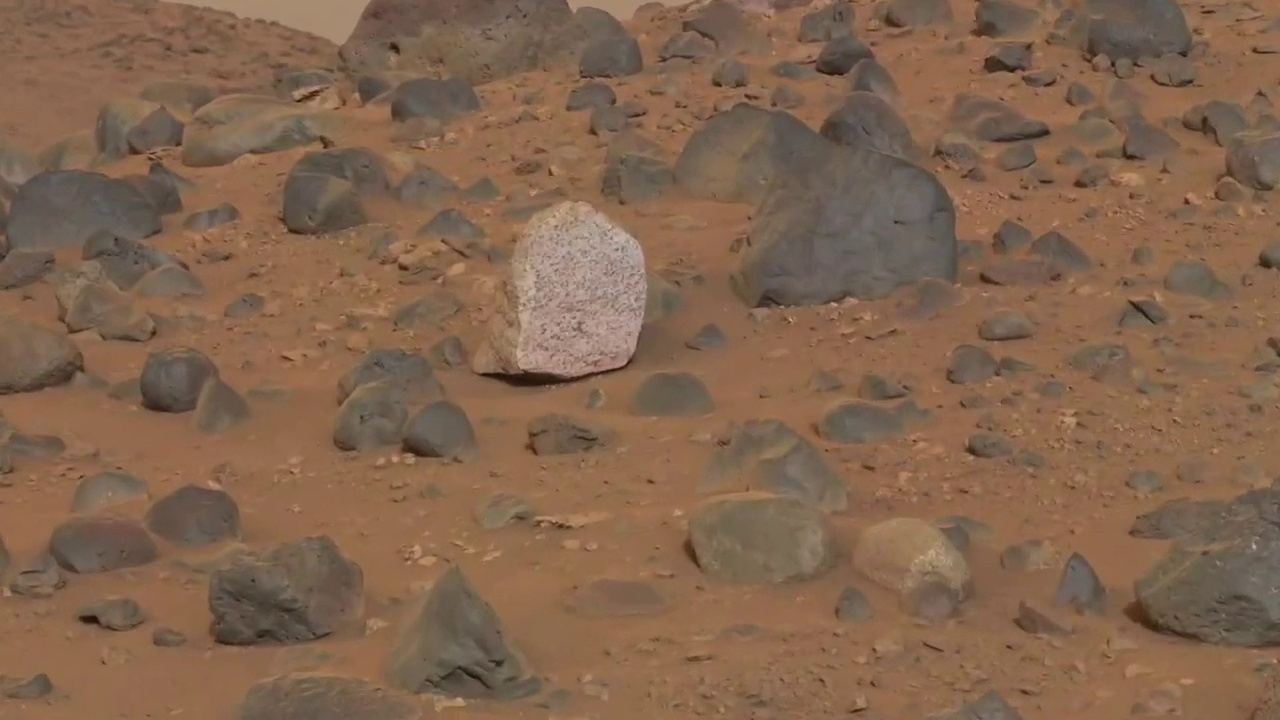rock: (471, 212, 671, 391), (96, 108, 184, 160), (982, 43, 1057, 87), (75, 599, 147, 632), (270, 63, 328, 97), (1117, 300, 1166, 335), (978, 318, 1033, 342), (874, 7, 912, 38), (658, 38, 698, 64), (1149, 69, 1195, 88), (712, 66, 747, 88)
